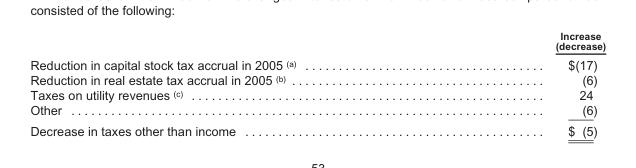table: (29, 29, 605, 137)
table column: (29, 29, 425, 137), (425, 29, 605, 137)
table column header: (29, 29, 605, 54)
table row: (29, 29, 605, 54), (29, 54, 605, 72), (29, 119, 605, 137), (29, 102, 605, 119), (29, 72, 605, 87), (29, 87, 605, 102)
